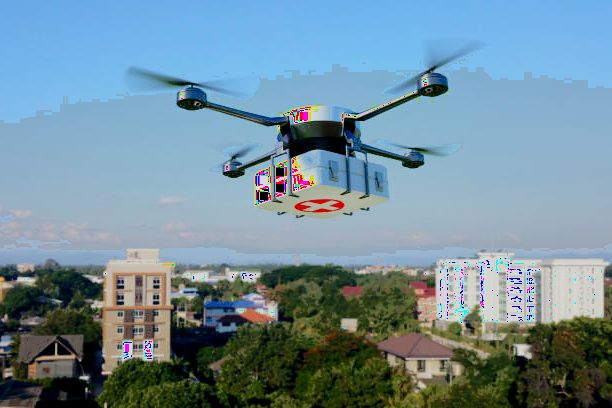Drone: (115, 37, 498, 183)
